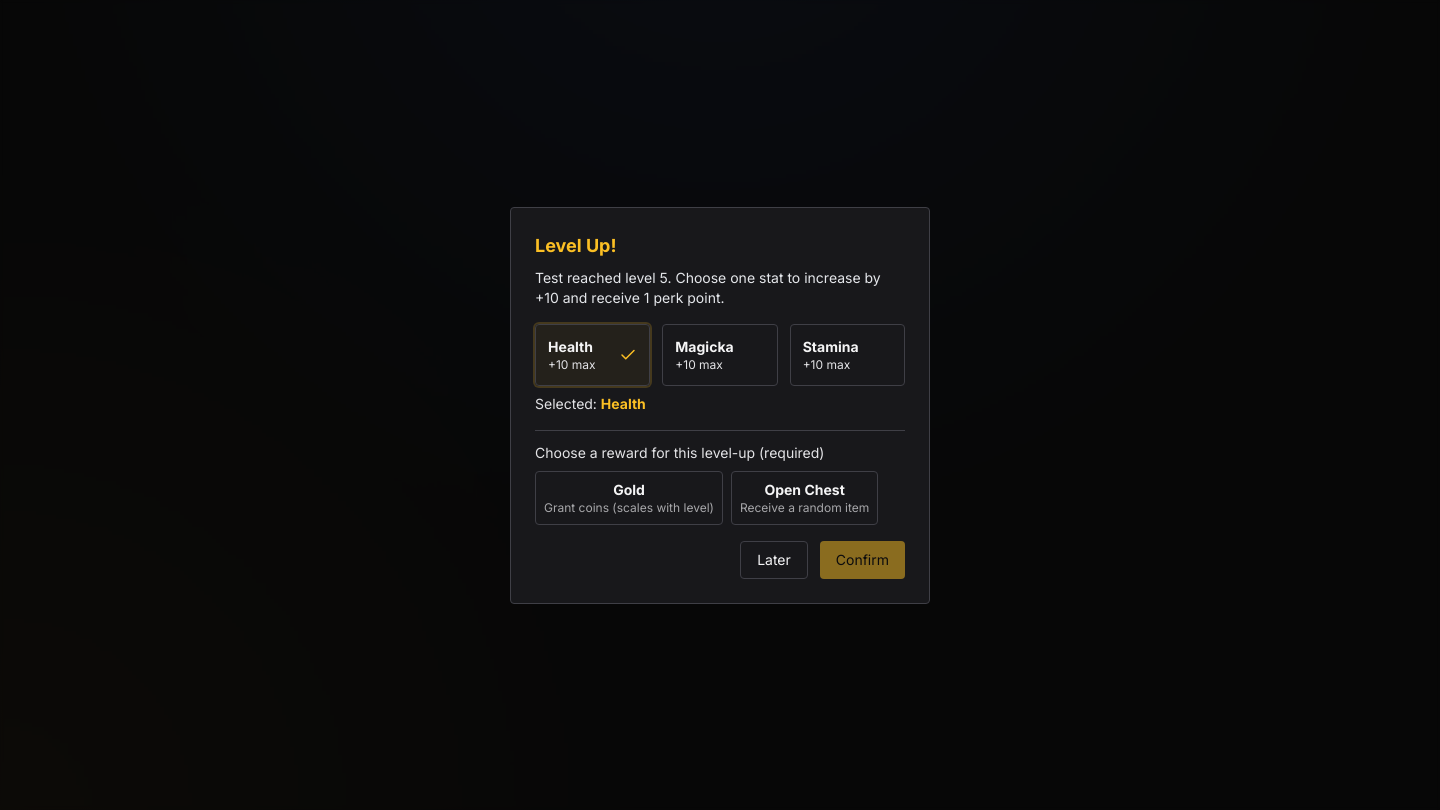
Test case: Chest preview shows available rarities based on level
What coordinates should you click on to do the following:
click the button "Open Chest Receive a random item"
I would click on:
 (805, 498)
Its box is [731, 470, 878, 524].
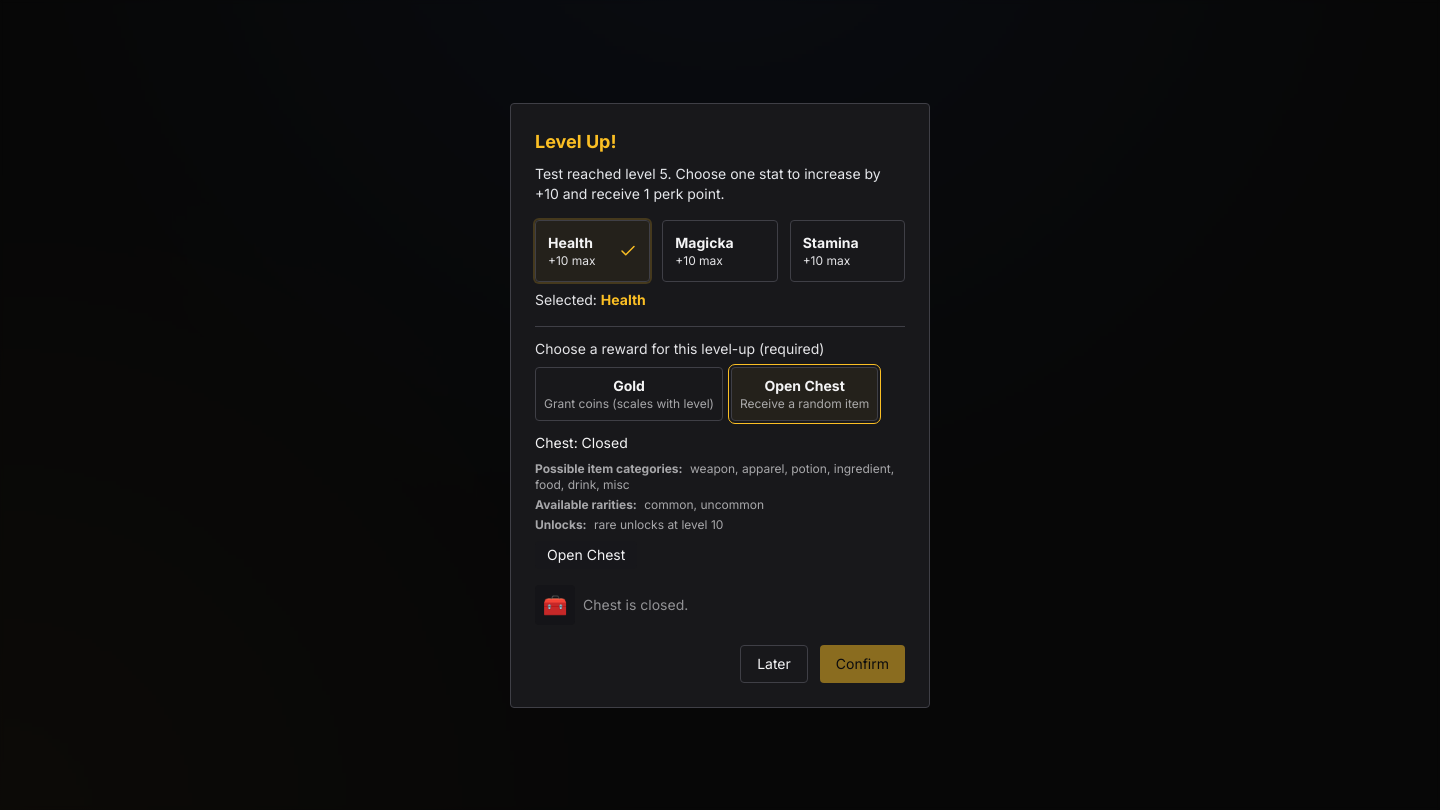
Check: the element with test id "chest-preview" is shown, box [535, 460, 905, 532]
Check: the element with test id "chest-preview" shows "common", box [644, 496, 764, 512]
Check: the element with test id "chest-preview" shows "uncommon", box [644, 496, 764, 512]
